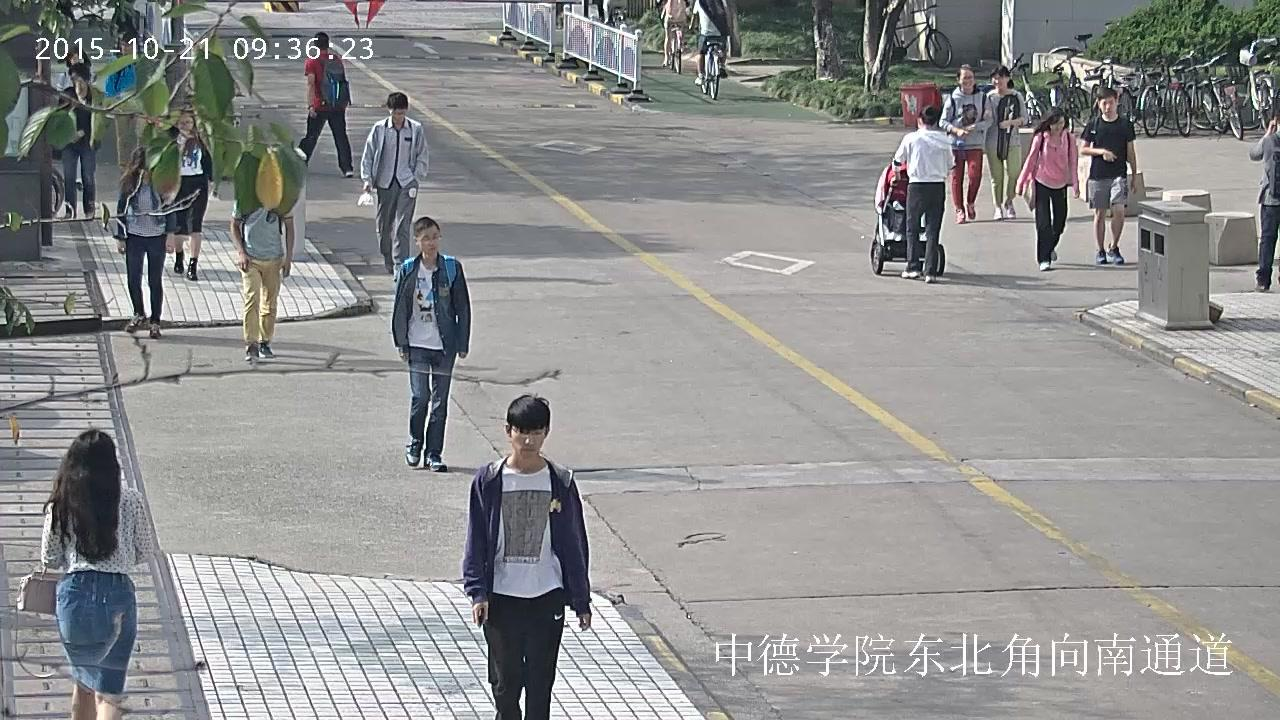face: (512, 422, 545, 459), (419, 225, 440, 254), (959, 70, 974, 88), (177, 116, 192, 133), (1101, 98, 1115, 116), (992, 73, 1006, 89), (1051, 116, 1064, 133), (391, 108, 405, 123), (70, 72, 81, 86), (71, 54, 83, 66), (140, 168, 152, 178)
